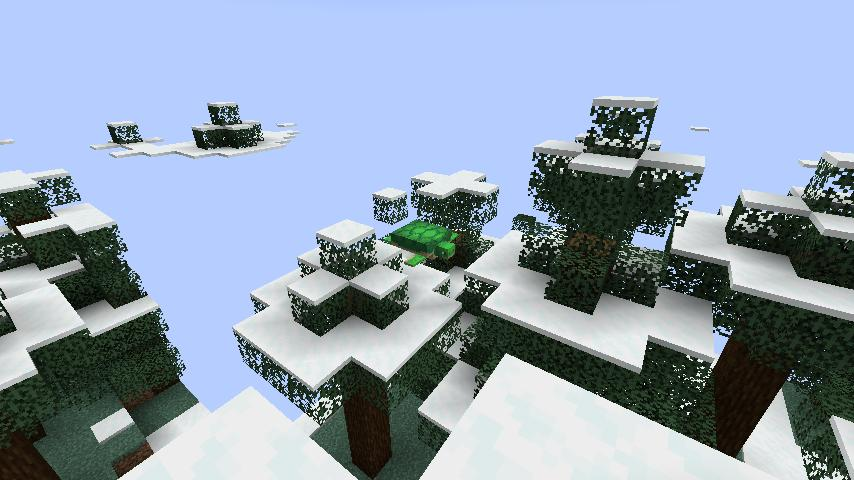turtle: (382, 217, 460, 267)
